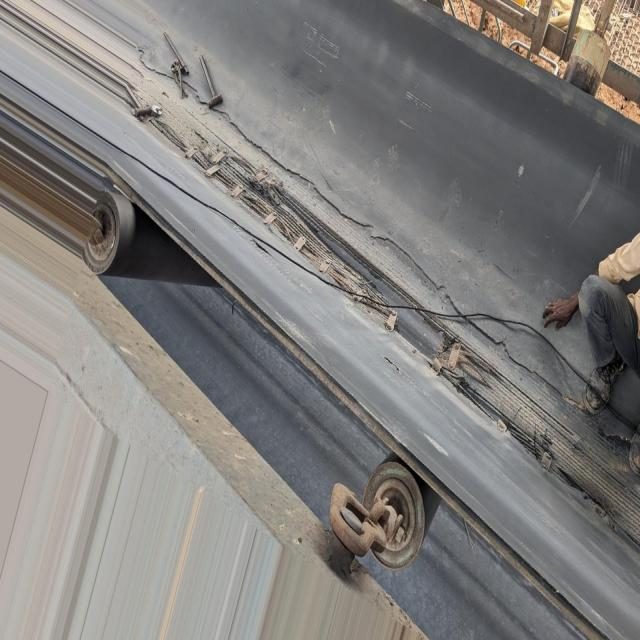Human: (531, 235, 640, 410)
Other Objects: (166, 25, 235, 118)
Roller: (81, 183, 222, 285), (360, 450, 442, 567), (561, 30, 611, 100)
Tear: (135, 62, 584, 478)
